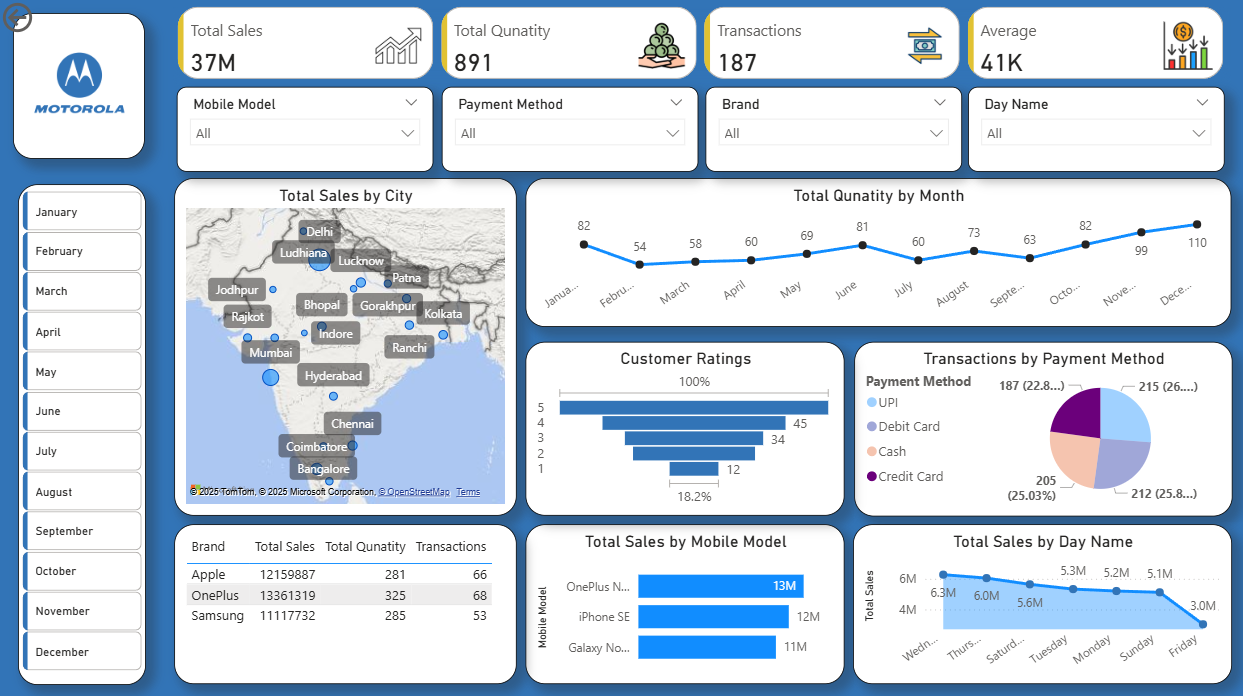

Layout of this report page (visuals, bound fields, positions):
{"tool":"powerbi","page":{"name":"Page 1","canvas":[1280,720],"ordinal":0},"visuals":[{"type":"shape","box":[15.7,15.7,135.1,149.6],"z":0},{"type":"image","box":[16.9,15.7,133.9,150.8],"z":1000},{"type":"shape","box":[20.5,190.6,131.5,513.9],"z":2000},{"type":"advancedSlicerVisual","fields":{"Values":["Sales_Data.Date.Variation.Date Hierarchy.Month"]},"box":[20,193.8,132.5,510],"z":3000},{"type":"cardVisual","fields":{"Data":["Sales_Data.Total Sales","Sales_Data.Total Qunatity","Sales_Data.Transactions","Sales_Data.Average"]},"box":[179.5,9,1084.6,82.1],"z":4000},{"type":"actionButton","box":[0,0,100,40],"z":5000},{"type":"map","fields":{"Category":["Sales_Data.City"],"Size":["Sales_Data.Total Sales"]},"box":[181.1,184.7,351.1,346.3],"z":6000},{"type":"lineChart","fields":{"Y":["Sales_Data.Total Qunatity"],"Category":["Sales_Data.Date.Variation.Date Hierarchy.Month"]},"box":[541.6,184.7,723.7,153.2],"z":7000},{"type":"barChart","fields":{"Category":["Sales_Data.Mobile Model"],"Y":["Sales_Data.Total Sales"]},"box":[541.2,540,327.5,163.8],"z":8000},{"type":"pieChart","fields":{"Category":["Sales_Data.Payment Method"],"Y":["Sales_Data.Transactions"]},"box":[878.1,352.1,387.7,179],"z":9000},{"type":"funnel","title":"Customer Ratings","fields":{"Category":["Sales_Data.Customer Ratings"],"Y":["CountNonNull(Sales_Data.Customer Ratings)"]},"box":[541.2,352.5,327.5,178.8],"z":10000},{"type":"areaChart","fields":{"Category":["Sales_Data.Day Name"],"Y":["Sales_Data.Total Sales"]},"box":[877.5,540,388.8,163.8],"z":11000},{"type":"tableEx","fields":{"Values":["Sales_Data.Brand","Sales_Data.Total Sales","Sales_Data.Total Qunatity","Sales_Data.Transactions"]},"box":[181.2,540,351.2,163.8],"z":12000},{"type":"slicer","fields":{"Values":["Sales_Data.Mobile Model"]},"box":[183.1,90.4,263.2,87.1],"z":12001},{"type":"slicer","fields":{"Values":["Sales_Data.Payment Method"]},"box":[454.8,90.4,263.2,87.1],"z":12005},{"type":"slicer","fields":{"Values":["Sales_Data.Brand"]},"box":[725.7,91.2,263.2,87.1],"z":12006},{"type":"slicer","fields":{"Values":["Sales_Data.Day Name"]},"box":[995.2,90.4,263.2,87.1],"z":12007}]}

Visuals, with their boxes in screenshot pixels (x1, y1, x2, y2), scaled from the page's 1280x720 canvas onto the 1243x696 screenshot:
shape: 15/15/146/160
image: 16/15/146/161
shape: 20/184/148/681
advancedSlicerVisual - Sales_Data.Date.Variation.Date Hierarchy.Month: 19/187/148/680
cardVisual - Sales_Data.Total Sales x Sales_Data.Total Qunatity: 174/9/1228/88
actionButton: 0/0/97/39
map - Sales_Data.City x Sales_Data.Total Sales: 176/179/517/513
lineChart - Sales_Data.Total Qunatity x Sales_Data.Date.Variation.Date Hierarchy.Month: 526/179/1229/327
barChart - Sales_Data.Mobile Model x Sales_Data.Total Sales: 526/522/844/680
pieChart - Sales_Data.Payment Method x Sales_Data.Transactions: 853/340/1229/513
"Customer Ratings" funnel: 526/341/844/514
areaChart - Sales_Data.Day Name x Sales_Data.Total Sales: 852/522/1230/680
tableEx - Sales_Data.Brand x Sales_Data.Total Sales: 176/522/517/680
slicer - Sales_Data.Mobile Model: 178/87/433/172
slicer - Sales_Data.Payment Method: 442/87/697/172
slicer - Sales_Data.Brand: 705/88/960/172
slicer - Sales_Data.Day Name: 966/87/1222/172
